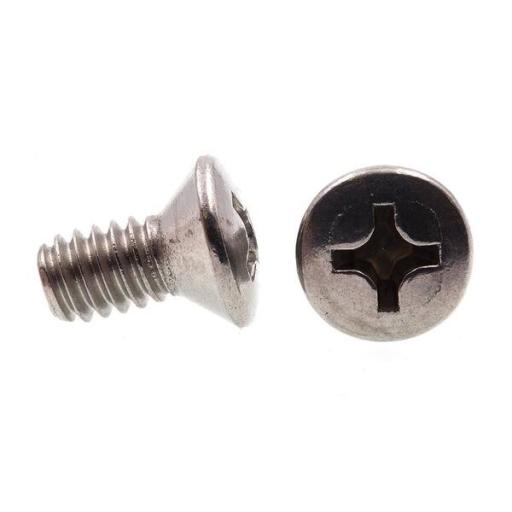Phillips: (292, 164, 472, 345)
